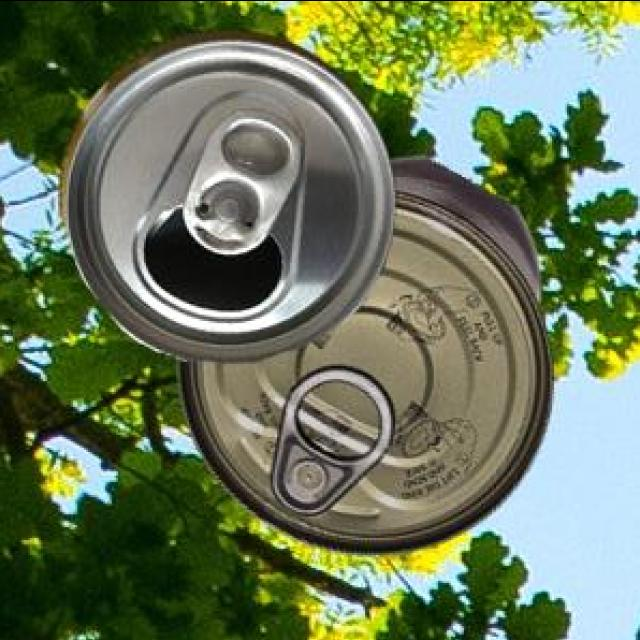logam: (175, 158, 549, 557), (57, 31, 392, 366)
